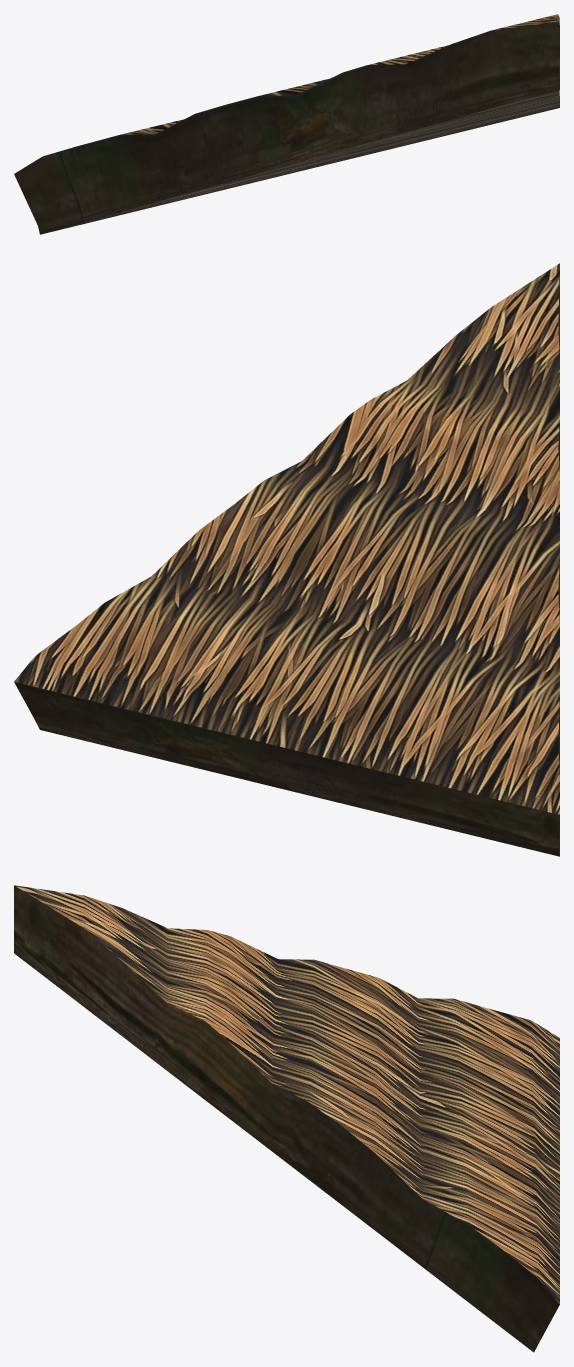
3 renders of one model, top to bottom at view 1: azimuth 30°, elevation 25°; view 2: azimuth 150°, elevation 25°; view 3: azimuth 270°, elevation 25°, orthographic.
Visible parts, largest first — view 1: SM_BB_T1_Extended_Roof_Triangle_Shallow_Large_Inverted_LOD0; view 2: SM_BB_T1_Extended_Roof_Triangle_Shallow_Large_Inverted_LOD0; view 3: SM_BB_T1_Extended_Roof_Triangle_Shallow_Large_Inverted_LOD0.
Part boxes in pixels (box(x1,y1,x2,y2)): SM_BB_T1_Extended_Roof_Triangle_Shallow_Large_Inverted_LOD0: box(14, 14, 559, 234); SM_BB_T1_Extended_Roof_Triangle_Shallow_Large_Inverted_LOD0: box(14, 263, 559, 856); SM_BB_T1_Extended_Roof_Triangle_Shallow_Large_Inverted_LOD0: box(14, 885, 559, 1352).
Bounding box in the file's own units: 3.15 × 1.87 × 2.73.
3 materials, 3 textured.
